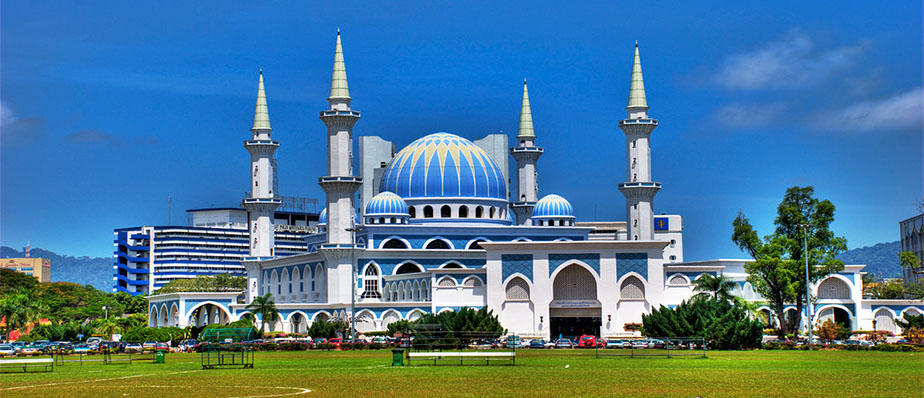Mosque: (235, 12, 671, 330)
